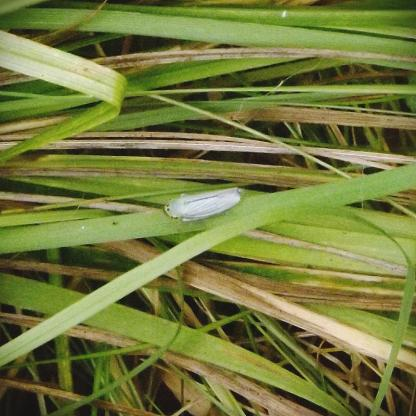Green-Leafhopper: (158, 185, 247, 225)
